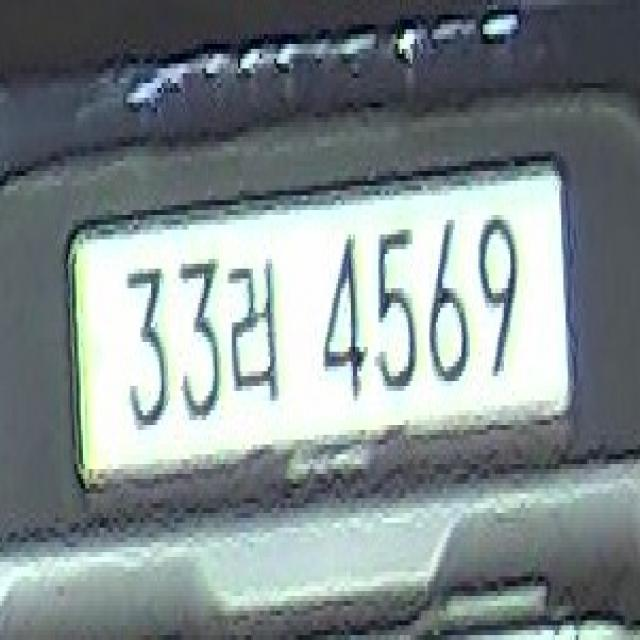3: (130, 259, 170, 440), (179, 249, 221, 420)
4: (319, 234, 370, 396)
5: (372, 224, 419, 396)
6: (427, 215, 470, 391)
9: (474, 205, 519, 381)
leo: (228, 254, 278, 401)
license_plate: (66, 156, 570, 484)
